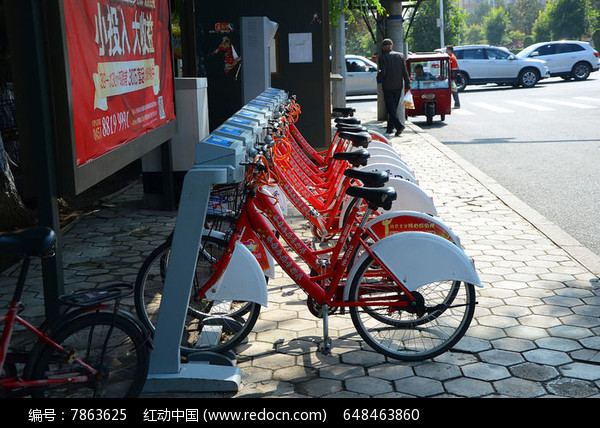MNV: (138, 158, 481, 359)
